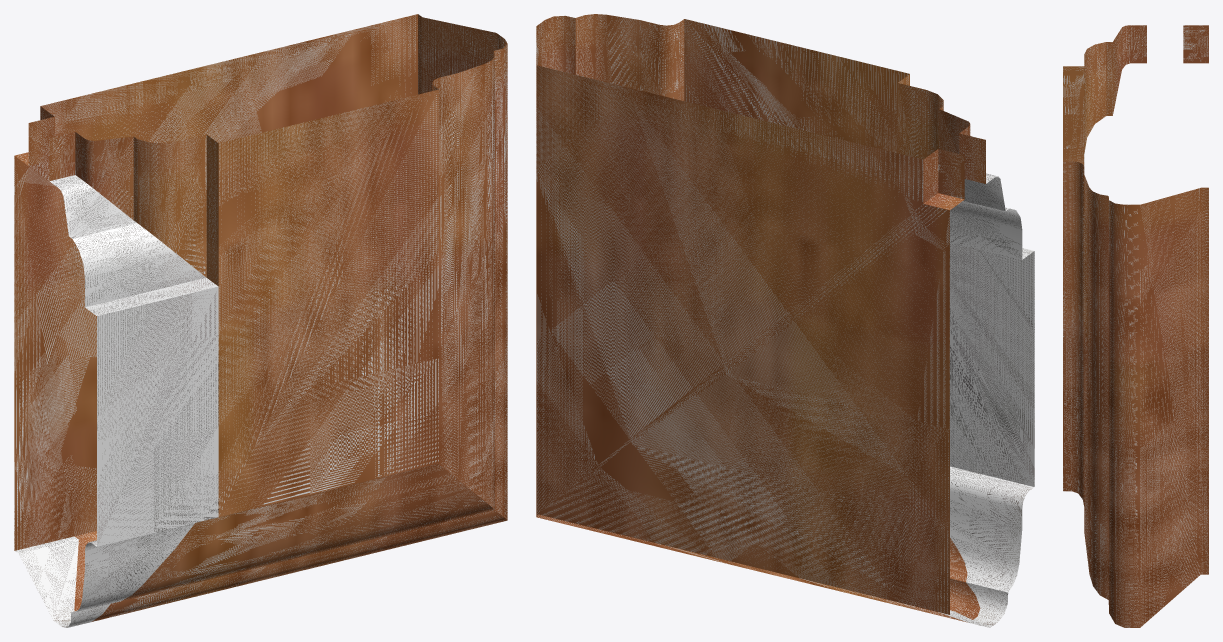
Rendered from original-54.obj.
The picture shows the model from 3 angles, left to right: view 1: azimuth 30°, elevation 25°; view 2: azimuth 150°, elevation 25°; view 3: azimuth 270°, elevation 25°; orthographic projection. The views are drawn at different scales.
Visible parts, largest first — view 1: RT_11_BR1/RT_11_BR/mesh43/mesh43-geometry#mesh43-geometry; view 2: RT_11_BR1/RT_11_BR/mesh43/mesh43-geometry#mesh43-geometry; view 3: RT_11_BR1/RT_11_BR/mesh43/mesh43-geometry#mesh43-geometry.
Part boxes in pixels (x1=…): RT_11_BR1/RT_11_BR/mesh43/mesh43-geometry#mesh43-geometry: x1=14, y1=14, x2=507, y2=627; RT_11_BR1/RT_11_BR/mesh43/mesh43-geometry#mesh43-geometry: x1=536, y1=14, x2=1034, y2=627; RT_11_BR1/RT_11_BR/mesh43/mesh43-geometry#mesh43-geometry: x1=1063, y1=25, x2=1208, y2=627.
Size of the model in its own units: 0.087 by 0.09 by 0.0281.
